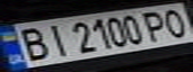0: (121, 11, 148, 46), (106, 15, 130, 48)
1: (90, 16, 112, 51)
2: (69, 18, 93, 54)
B: (9, 25, 54, 62)
I: (36, 20, 72, 58)
O: (157, 6, 193, 38)
P: (139, 9, 175, 42)
